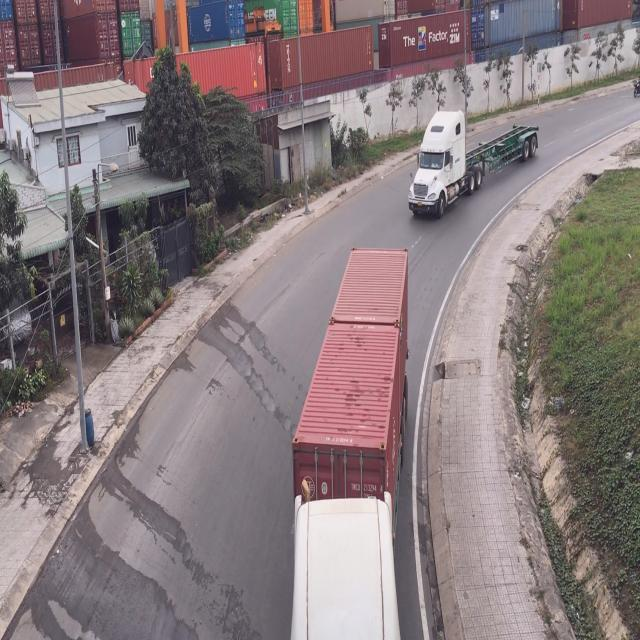truck: (289, 243, 412, 638), (405, 110, 539, 220)
